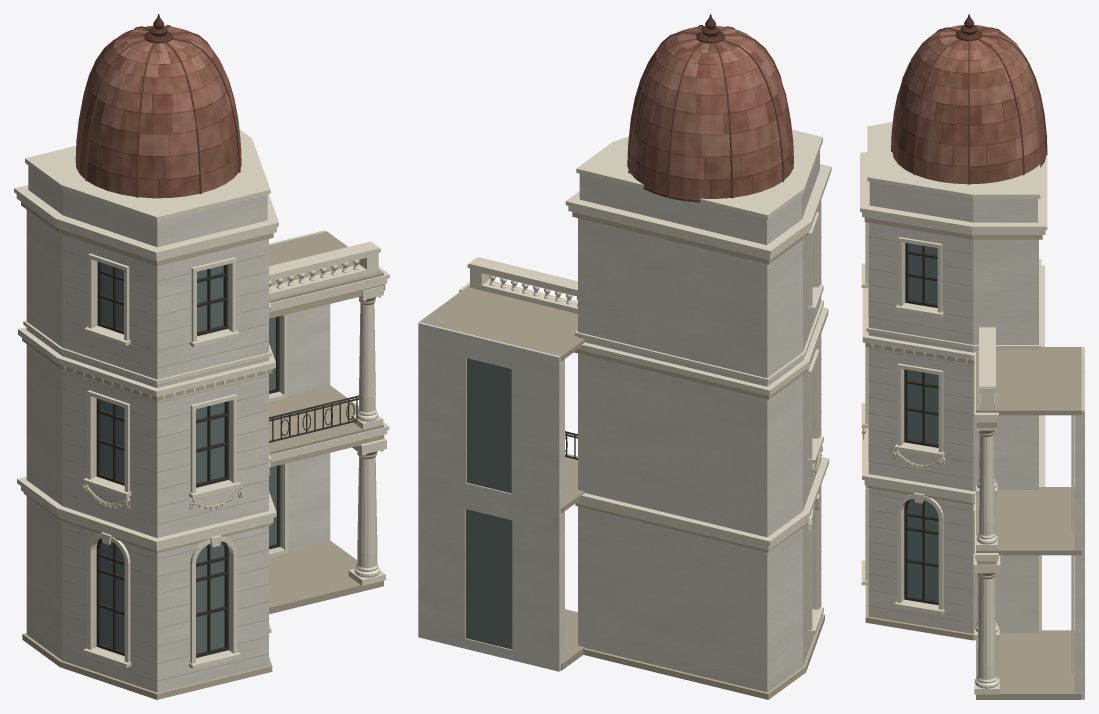
File: jingan-rong-residence-garden-tower-lod.glb
3 renders of one model, left to right at view 1: azimuth 30°, elevation 25°; view 2: azimuth 150°, elevation 25°; view 3: azimuth 270°, elevation 25°, orthographic. The views are drawn at different scales.
Parts seen in each view (by area): view 1: 荣氏花园住宅花园角塔与首间柱廊; view 2: 荣氏花园住宅花园角塔与首间柱廊; view 3: 荣氏花园住宅花园角塔与首间柱廊.
Part boxes in pixels (bbox=[...]): 荣氏花园住宅花园角塔与首间柱廊: bbox=[14, 14, 389, 699]; 荣氏花园住宅花园角塔与首间柱廊: bbox=[418, 14, 831, 699]; 荣氏花园住宅花园角塔与首间柱廊: bbox=[860, 14, 1084, 699].
Bounding box in the file's own units: 9.92 × 17.78 × 6.22.
11 materials, 2 textured.
